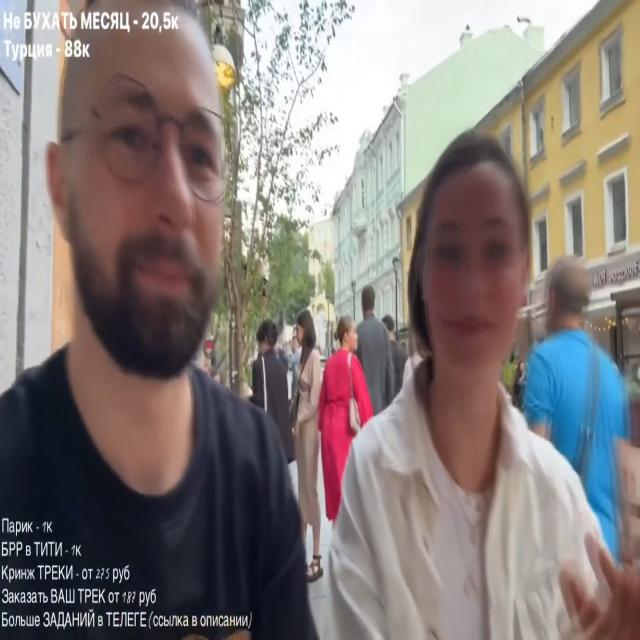Person: (0, 21, 339, 637), (332, 140, 626, 633), (516, 253, 628, 554), (314, 312, 376, 568), (249, 319, 296, 459), (356, 292, 399, 414)
